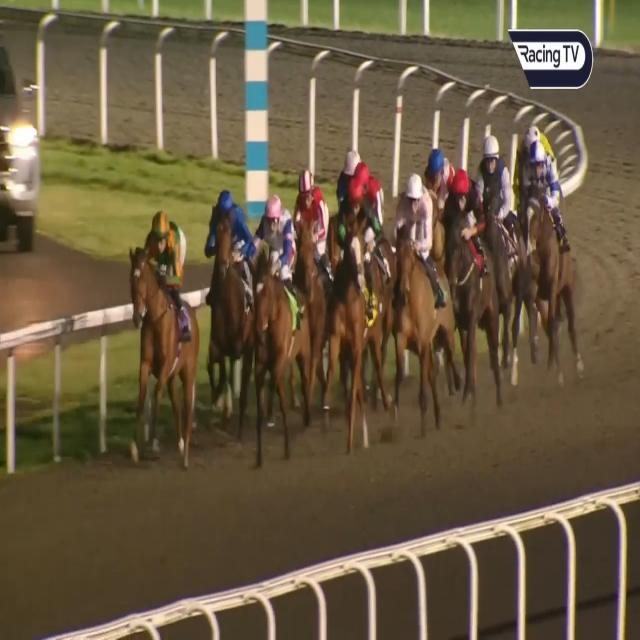horses-racing: (126, 206, 200, 449), (387, 176, 456, 409), (198, 186, 257, 384), (250, 195, 306, 398), (337, 184, 386, 398), (520, 147, 562, 364), (446, 166, 492, 358), (476, 134, 522, 324), (292, 174, 338, 347), (419, 138, 463, 203), (358, 151, 387, 217), (510, 120, 550, 161), (335, 146, 362, 199)
